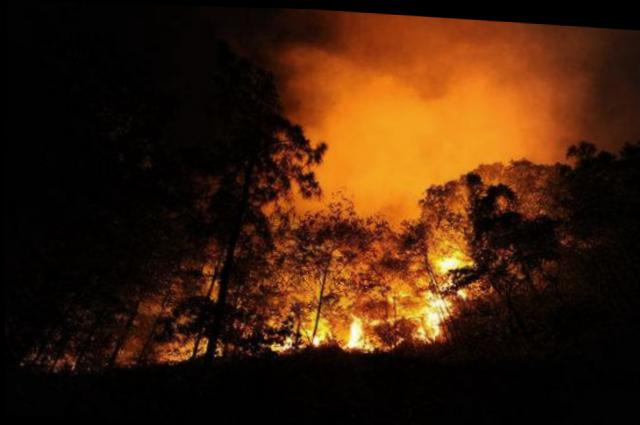fire: (166, 209, 487, 374)
